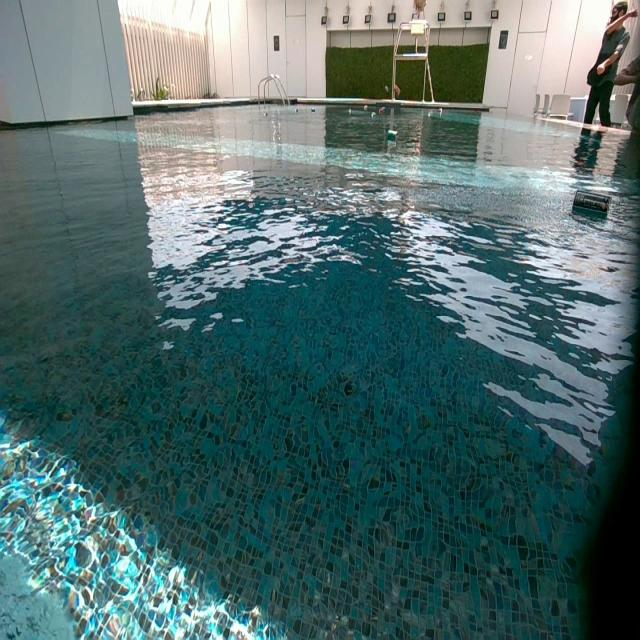Cans: (574, 190, 612, 218), (386, 130, 397, 146), (310, 107, 318, 115), (379, 106, 385, 115), (264, 111, 270, 117), (348, 108, 353, 115), (371, 112, 376, 118), (294, 108, 299, 114), (438, 108, 444, 113), (364, 106, 368, 110)
